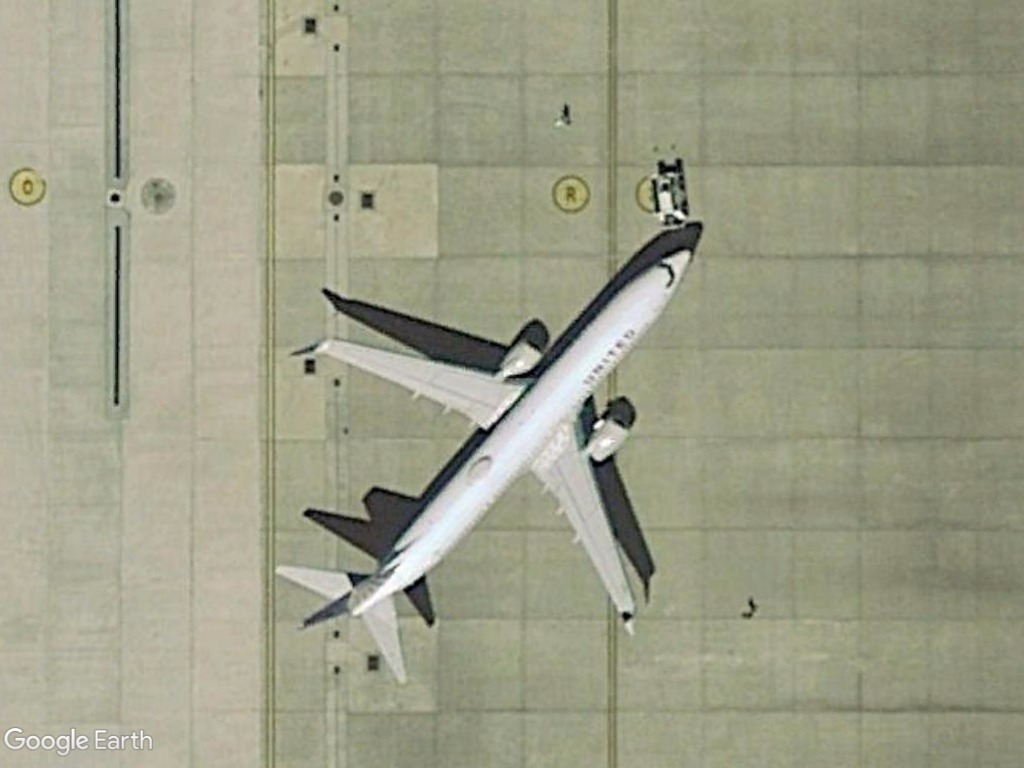airliner: (275, 234, 705, 690)
